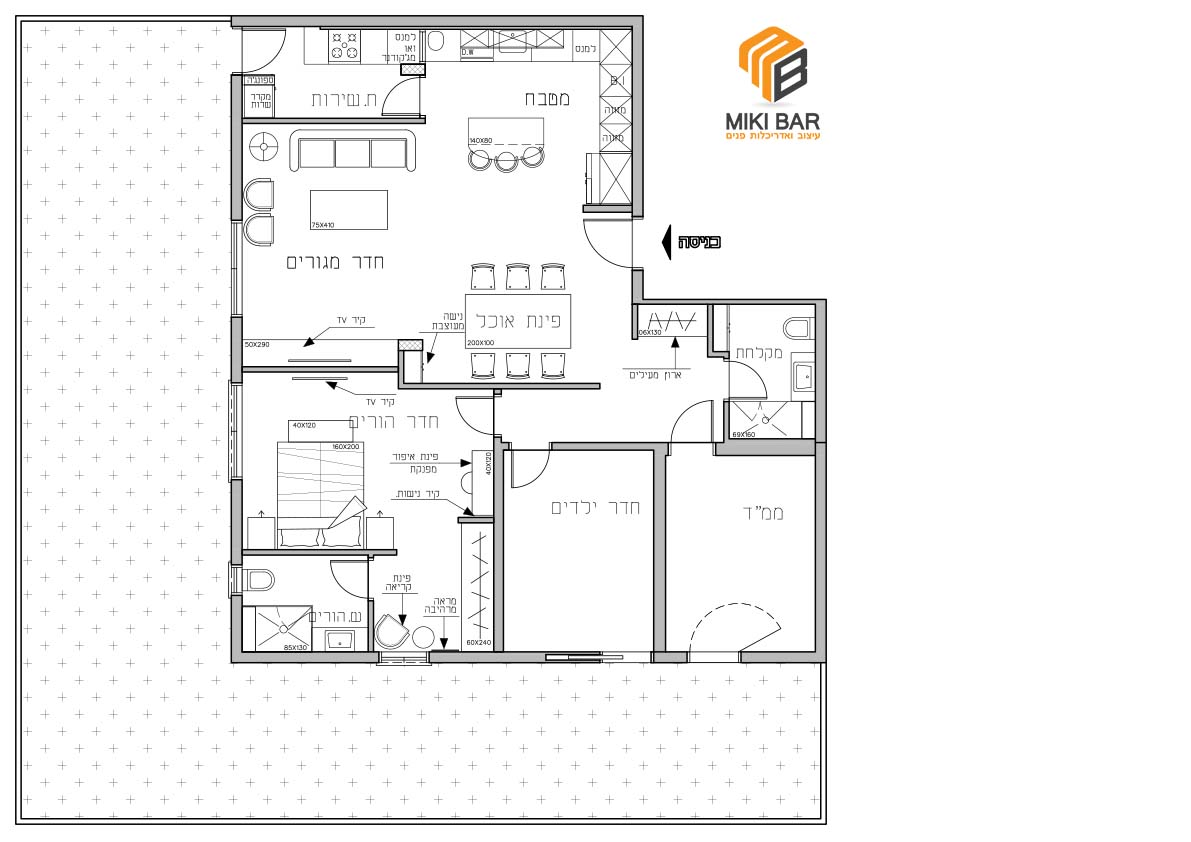door: (579, 214, 630, 275), (664, 394, 720, 441), (506, 449, 562, 496), (442, 392, 498, 439), (243, 27, 290, 72), (374, 75, 421, 120), (730, 352, 771, 400)
wall: (233, 15, 645, 27), (653, 441, 668, 662), (493, 450, 505, 652), (632, 17, 644, 216), (815, 443, 825, 662), (230, 652, 378, 661)
window: (230, 383, 243, 481), (230, 220, 243, 318), (378, 652, 429, 664), (229, 565, 242, 595)
